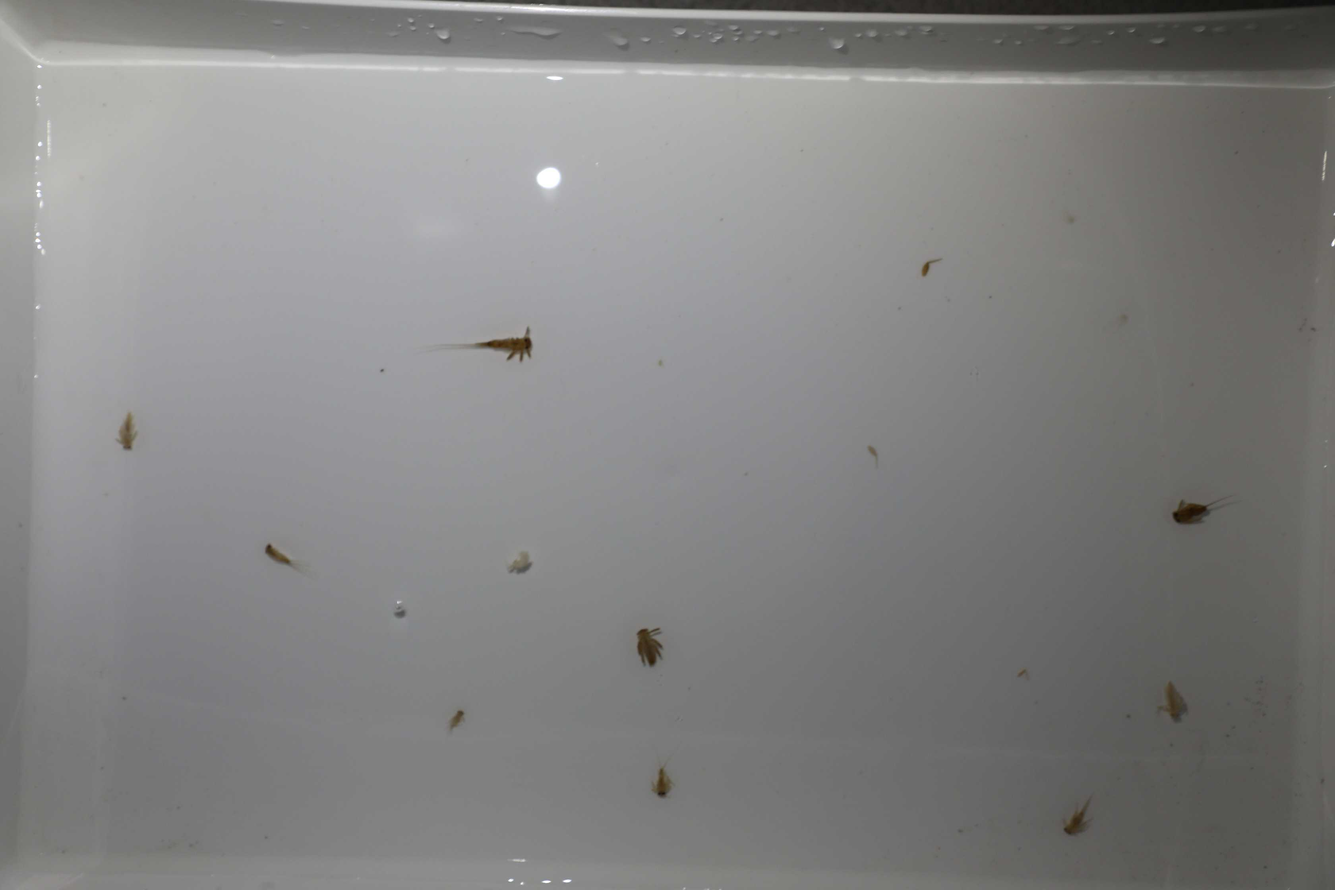Mayfly: (439, 325, 542, 368), (1161, 487, 1242, 530), (1060, 776, 1103, 840), (1159, 674, 1192, 728), (259, 537, 302, 571), (109, 408, 139, 454), (636, 626, 665, 672), (647, 763, 675, 801), (499, 555, 540, 578), (444, 703, 467, 735)
